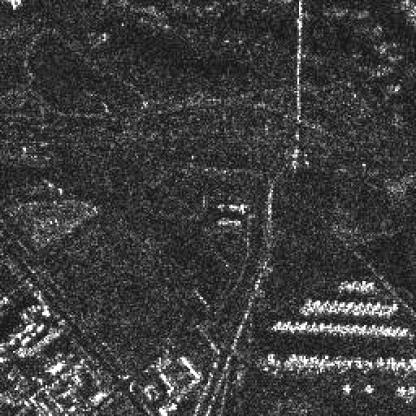airplane: (341, 384, 353, 392), (364, 384, 372, 393), (396, 385, 404, 393), (406, 387, 414, 395)
